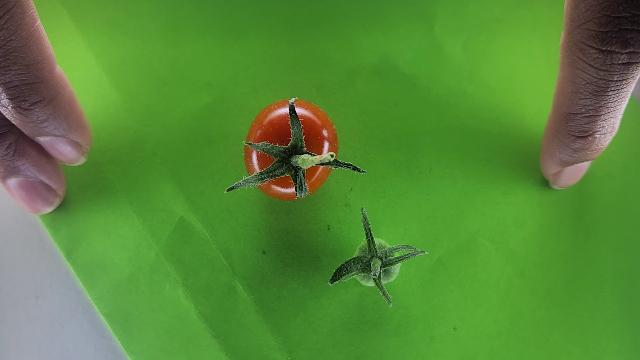Fruit Maturation: (354, 238, 403, 289)
Fully Grown: (245, 99, 338, 201)
